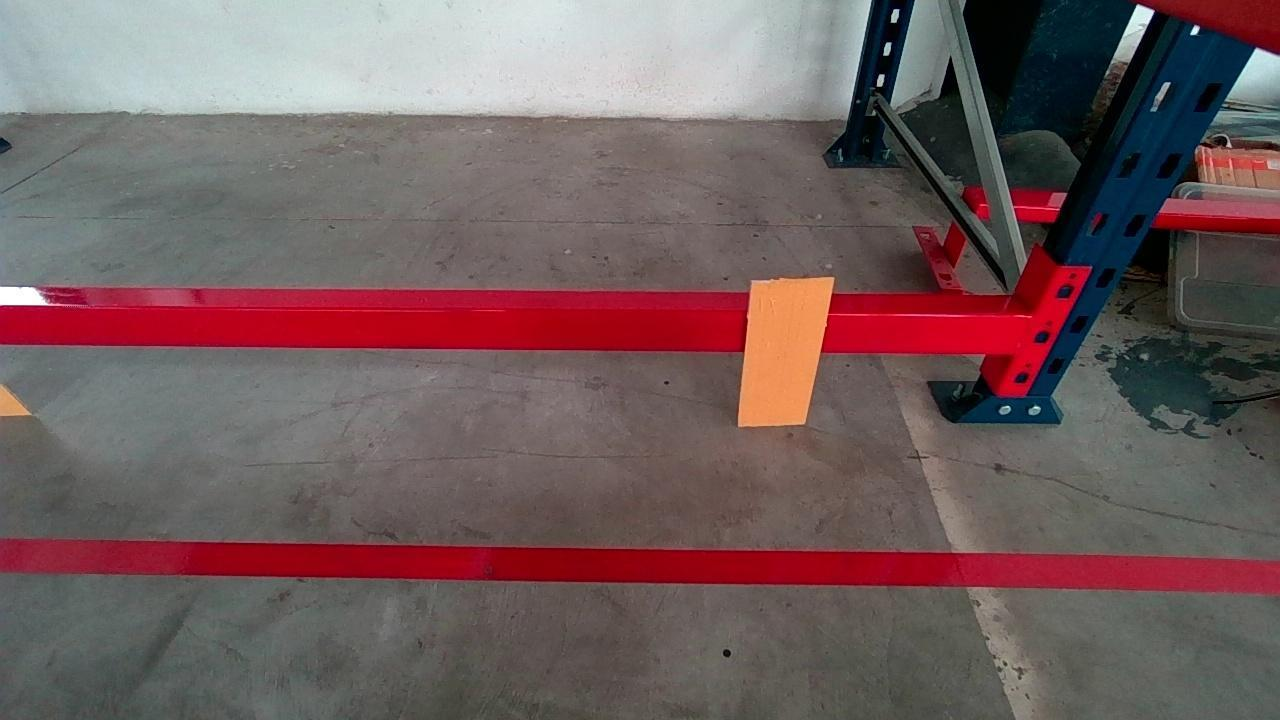h_rack: (8, 298, 1022, 354)
orange_strip: (738, 279, 832, 425)
red_line: (1, 537, 1278, 597)
